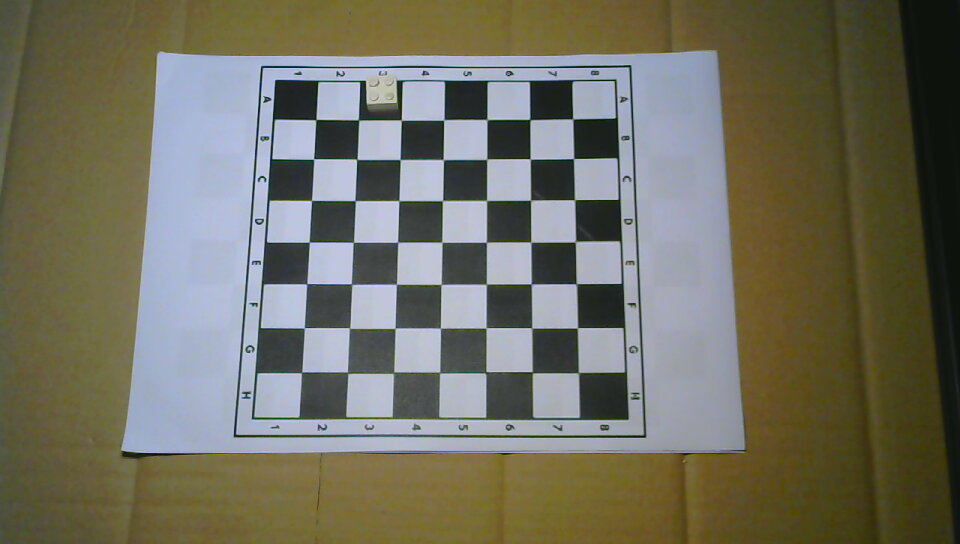wp: (364, 74, 400, 113)
